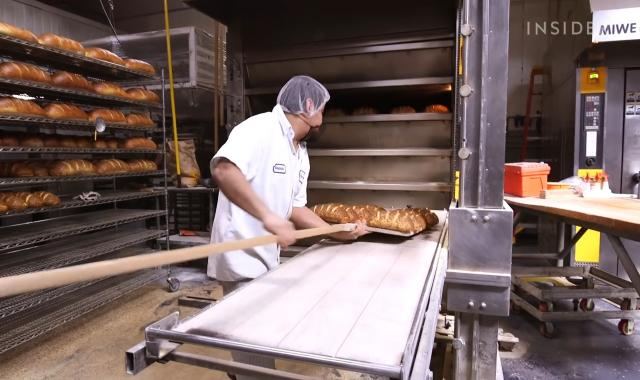hairnet: (278, 75, 330, 121)
